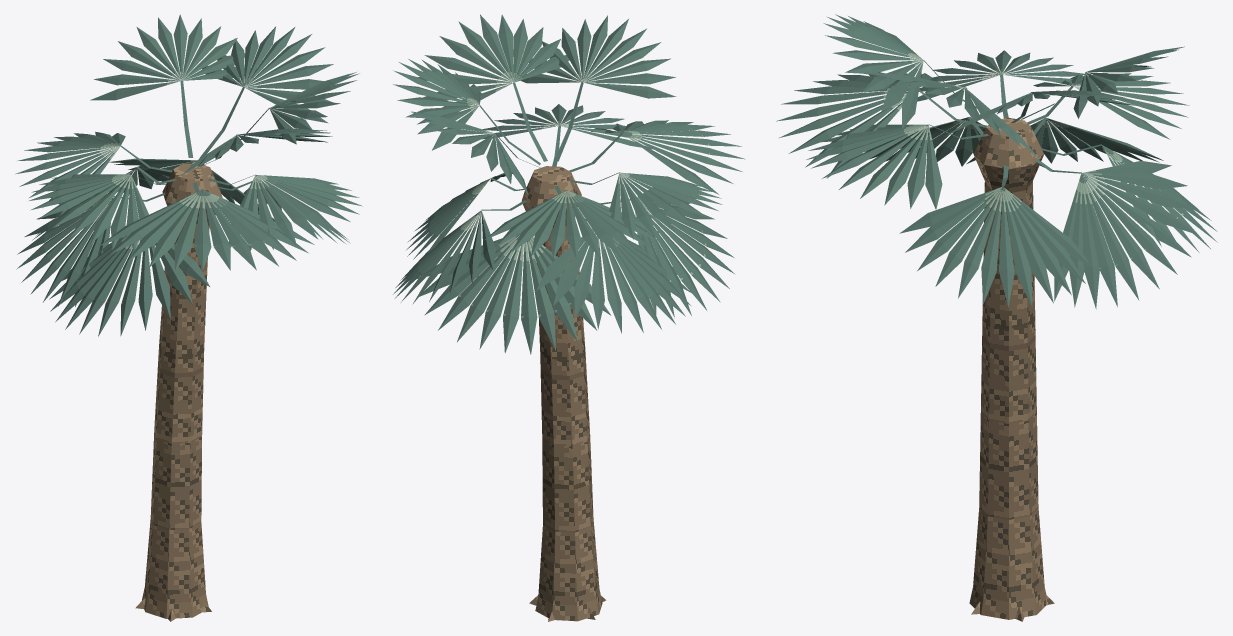
The model's file is sabal.glb.
3 views of the same model, side by side, from view 1: azimuth 30°, elevation 25°; view 2: azimuth 150°, elevation 25°; view 3: azimuth 270°, elevation 25° (orthographic). The views are drawn at different scales.
Visible parts, largest first — view 1: crown_sabal, trunk_sabal; view 2: crown_sabal, trunk_sabal; view 3: crown_sabal, trunk_sabal.
Part boxes in pixels (bbox=[...]): crown_sabal: bbox=[15, 14, 362, 336]; trunk_sabal: bbox=[135, 163, 222, 621]; crown_sabal: bbox=[393, 14, 745, 354]; trunk_sabal: bbox=[521, 166, 606, 621]; crown_sabal: bbox=[776, 14, 1217, 309]; trunk_sabal: bbox=[969, 117, 1054, 621].
Bounding box in the file's own units: 5.36 × 9.02 × 6.1.
2 materials, 2 textured.
